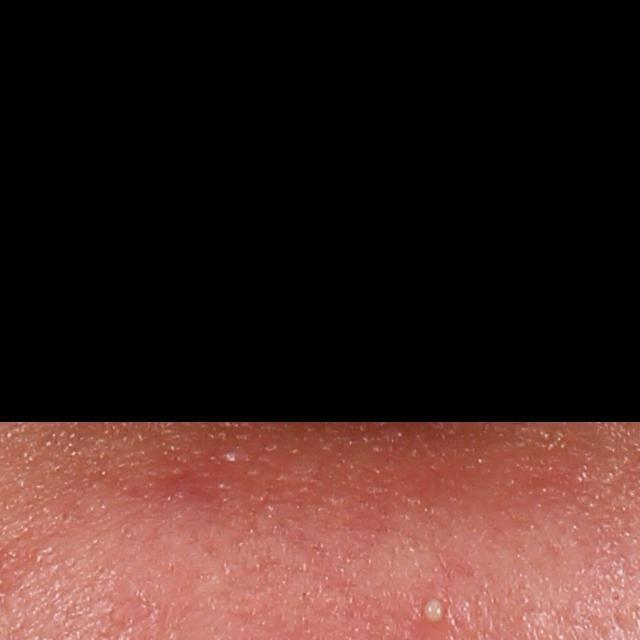pustule: (418, 597, 443, 626)
